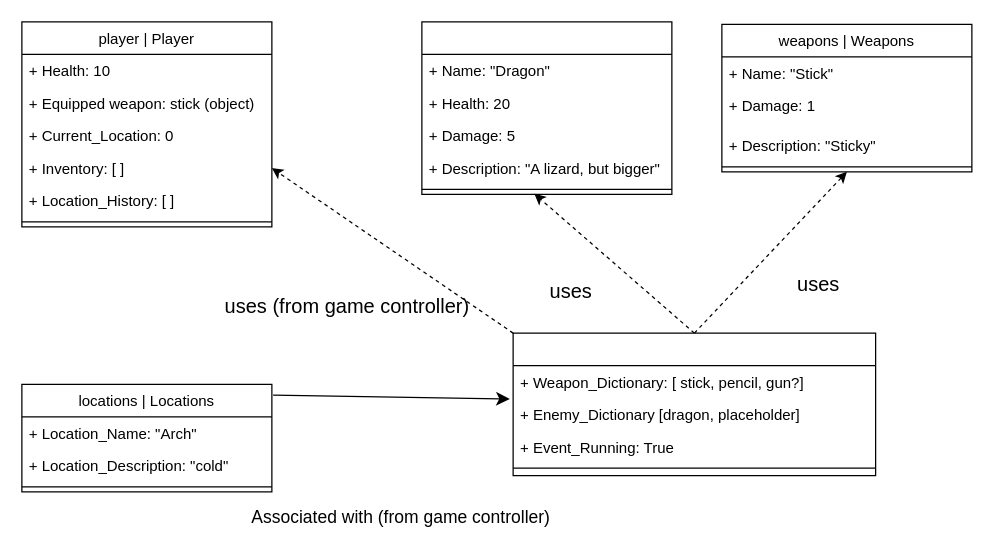
The diagram is 994 pixels wide and 556 high, and some of its shapes have lost their labels. The box of each missing label's shape, as (x1, y1, x2, y2) in pixels:
enemies | Enemies: (421, 21, 672, 194)
Events | events: (512, 332, 876, 476)
